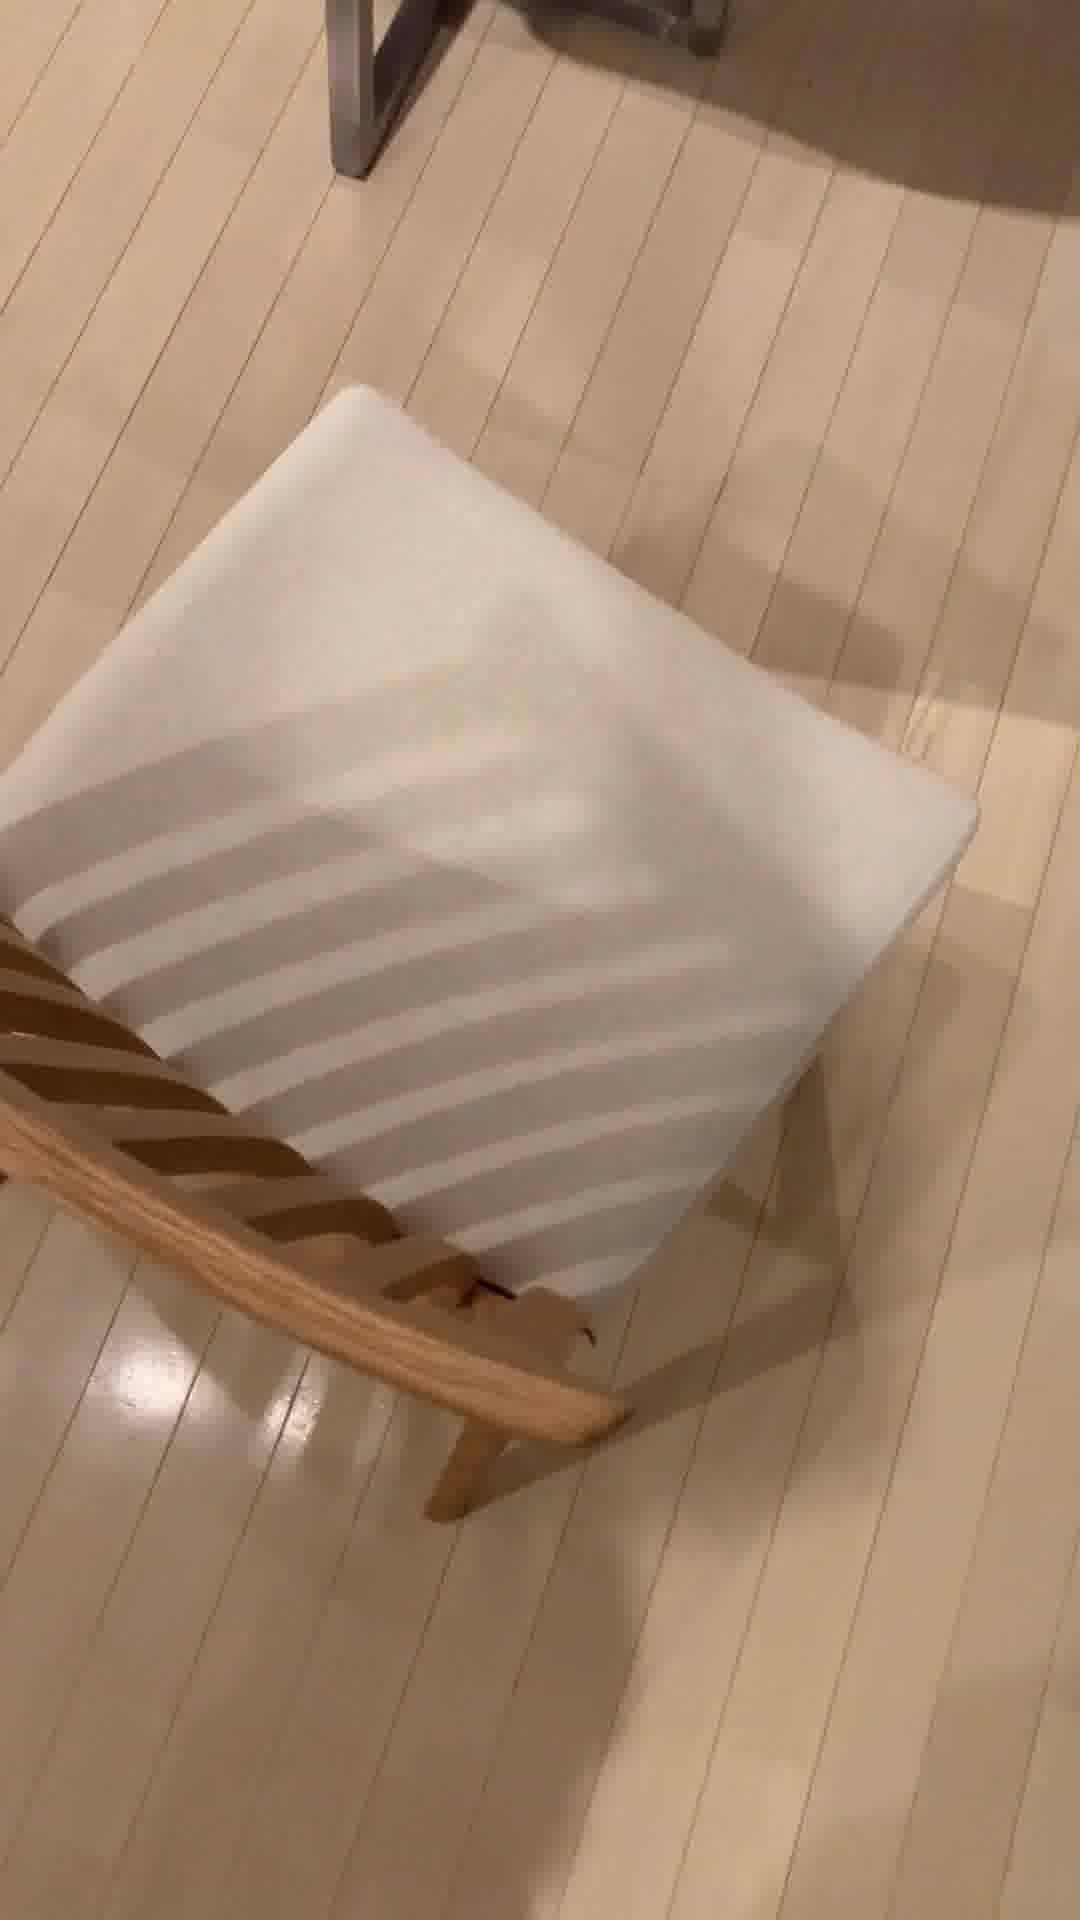takumikan-chair: (0, 376, 982, 1534)
